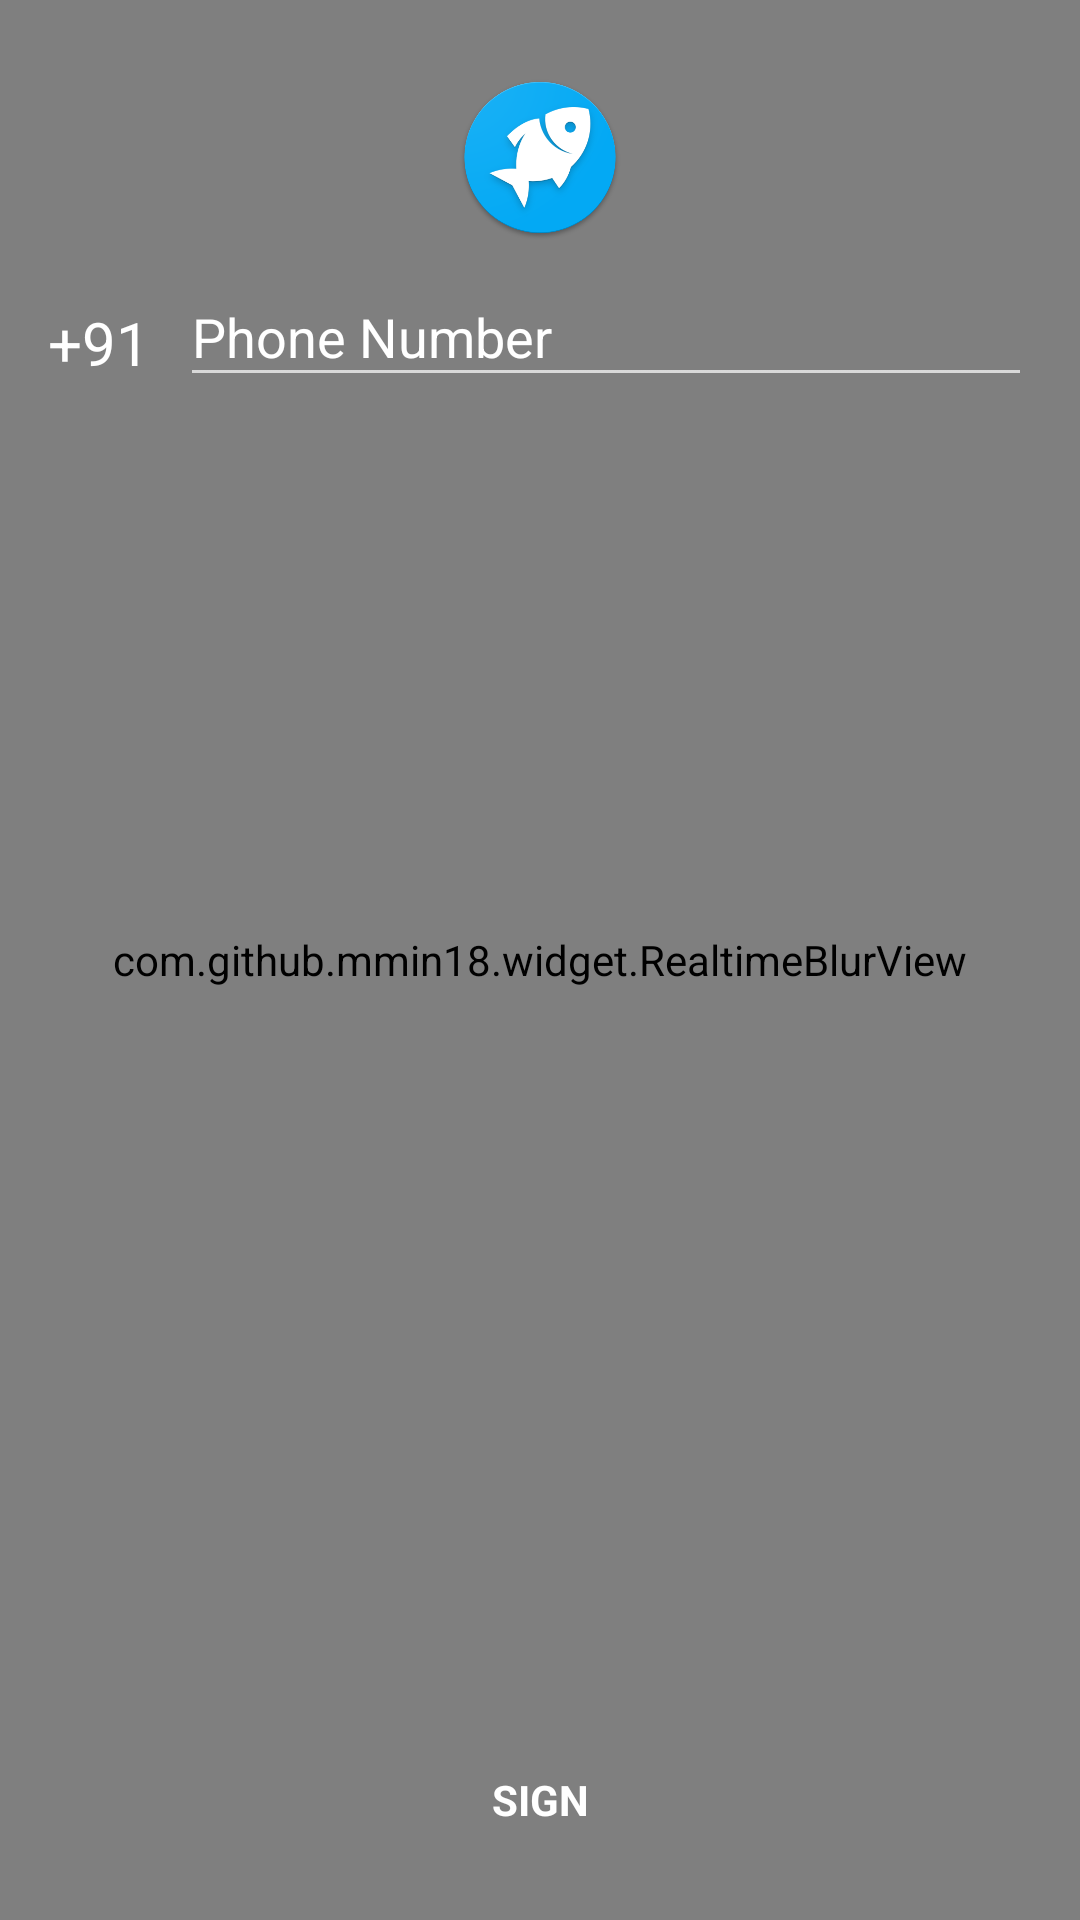

Named icons in this screenshot (1080px x 1920px) and their bounding boxes, (x1, y1, x2, y2):
fish round: (464, 82, 616, 235)
